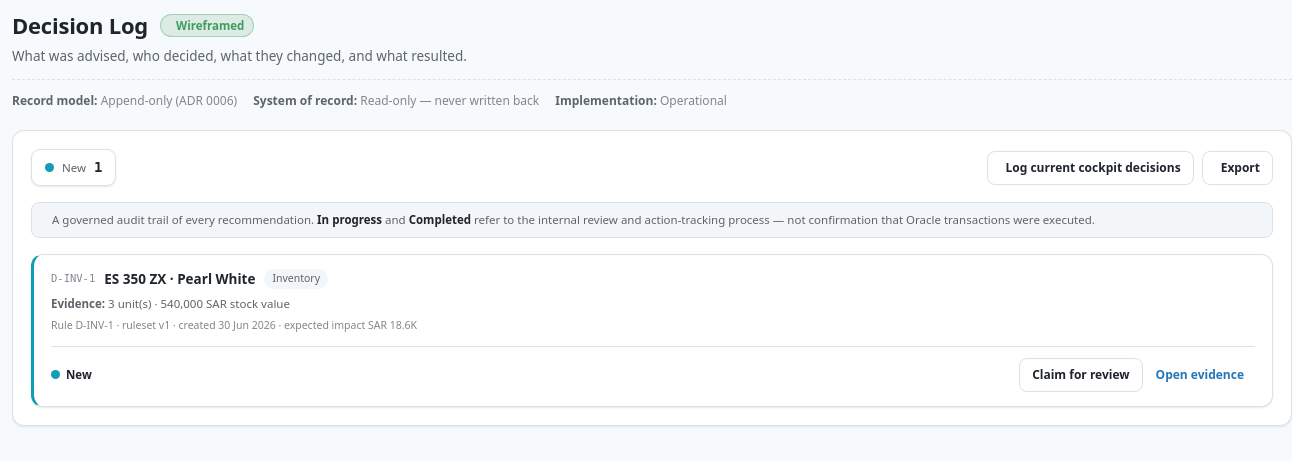
Decision Log — filtering › offers a clear-filter control once a chip is active
Step 1. Click the button "New 1" → (74, 168), box [31,149,116,186]
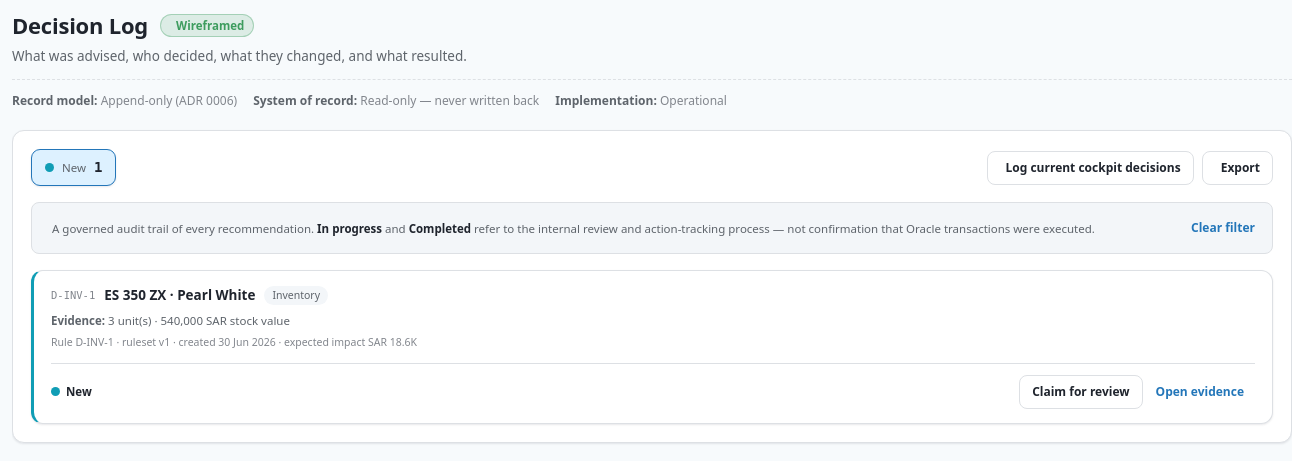
Result: the button "Clear filter" is shown at [1186,211,1260,245]
